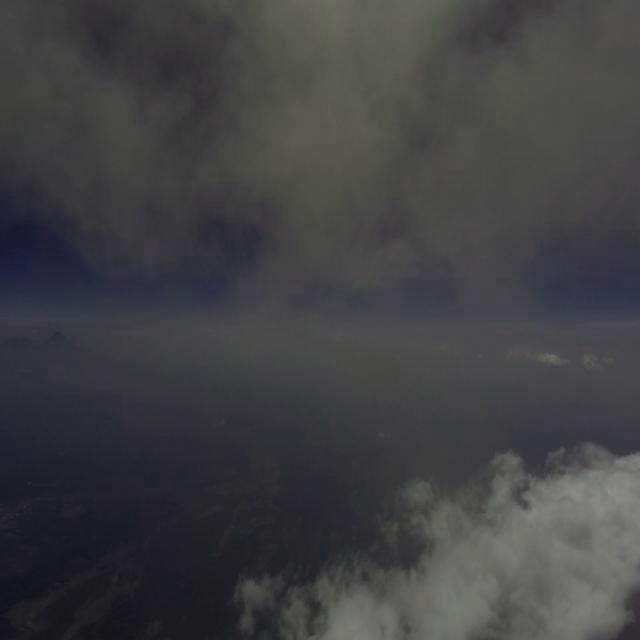Plume: (0, 0, 640, 293)
